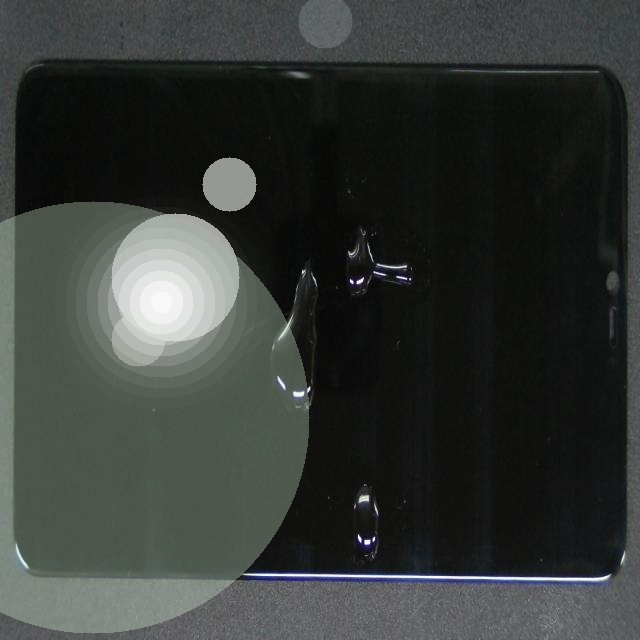oil: (194, 276, 579, 640), (204, 158, 622, 415), (167, 155, 471, 414)
